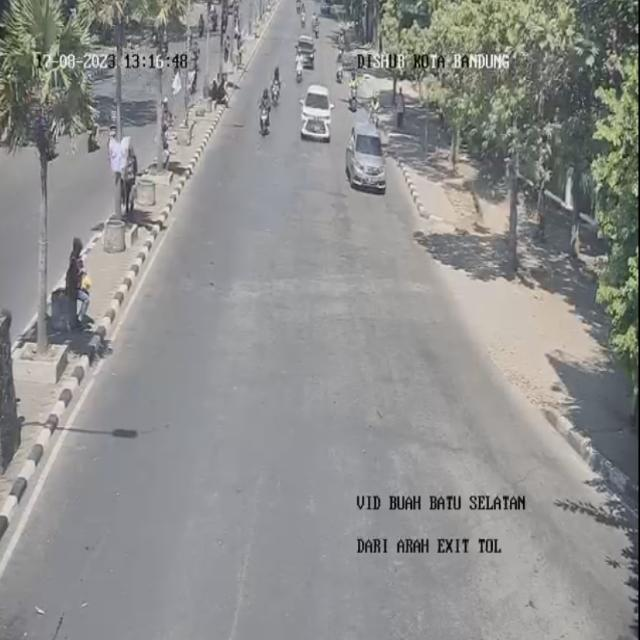cars: (345, 115, 386, 192), (300, 84, 332, 143), (296, 35, 318, 66)
motorcycle: (257, 87, 277, 142), (269, 64, 285, 108), (346, 70, 361, 112), (292, 54, 309, 86), (336, 54, 348, 88), (296, 0, 308, 23)
